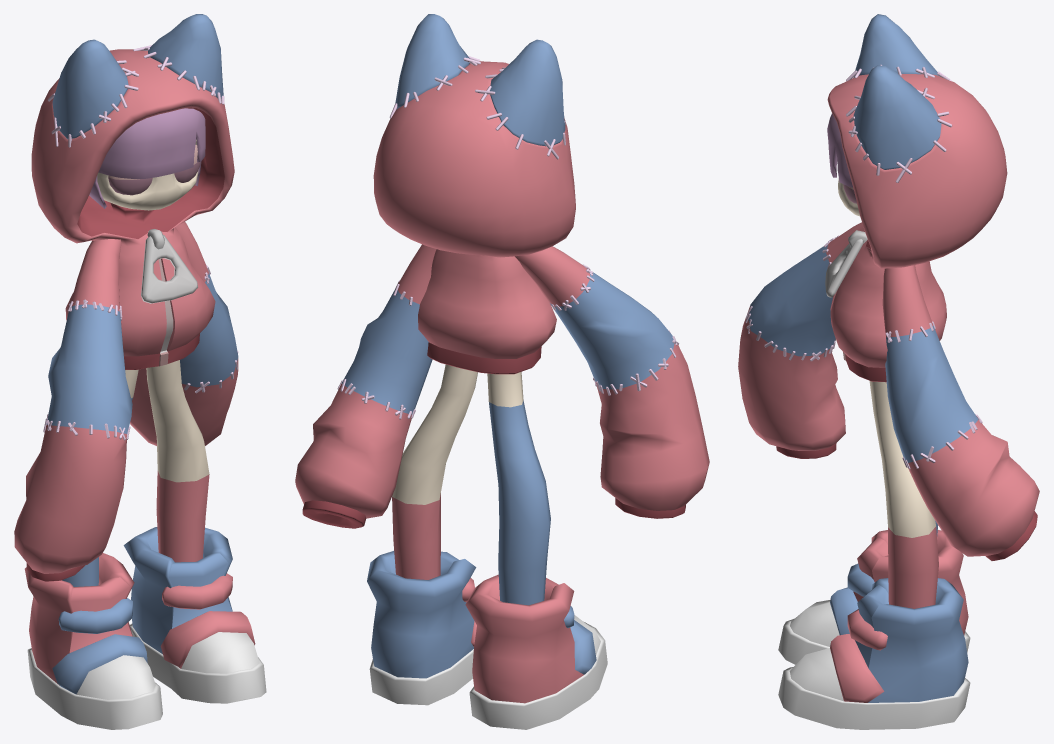
Rendered from collectable_-_citycat.glb.
3 views of the same model, side by side, from view 1: azimuth 30°, elevation 25°; view 2: azimuth 150°, elevation 25°; view 3: azimuth 270°, elevation 25° (orthographic). The views are drawn at different scales.
Parts seen in each view (by area): view 1: Object_2; view 2: Object_2; view 3: Object_2.
Boxes of the visible parts, x1,y1,x2,y2 form: Object_2: [14, 14, 266, 729]; Object_2: [295, 14, 709, 729]; Object_2: [738, 14, 1039, 729].
Size of the model in its own units: 10.66 by 22.15 by 9.41.
1 material, 1 textured.
